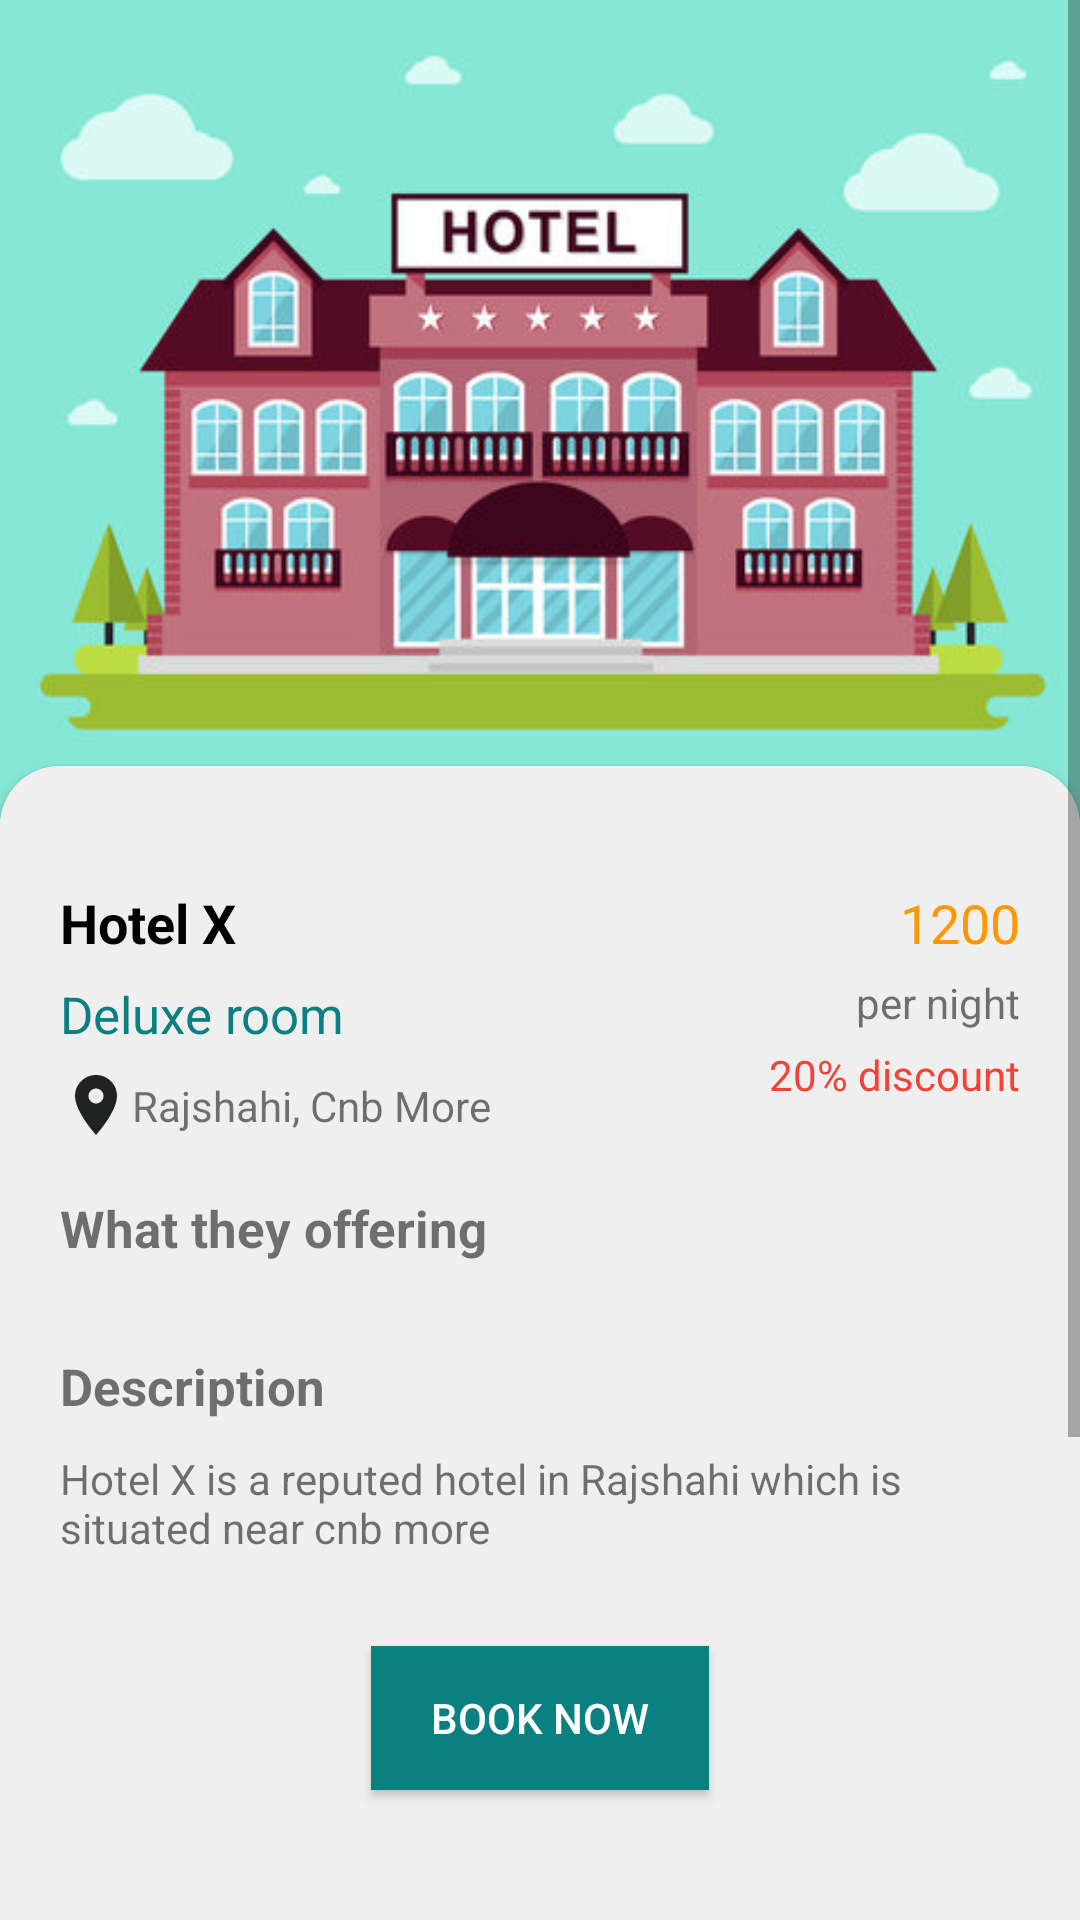

Point at icon controls on the screen. Image size 1080w x 1920h, points as (x=x, y=y).
location on: (x=96, y=1105)
